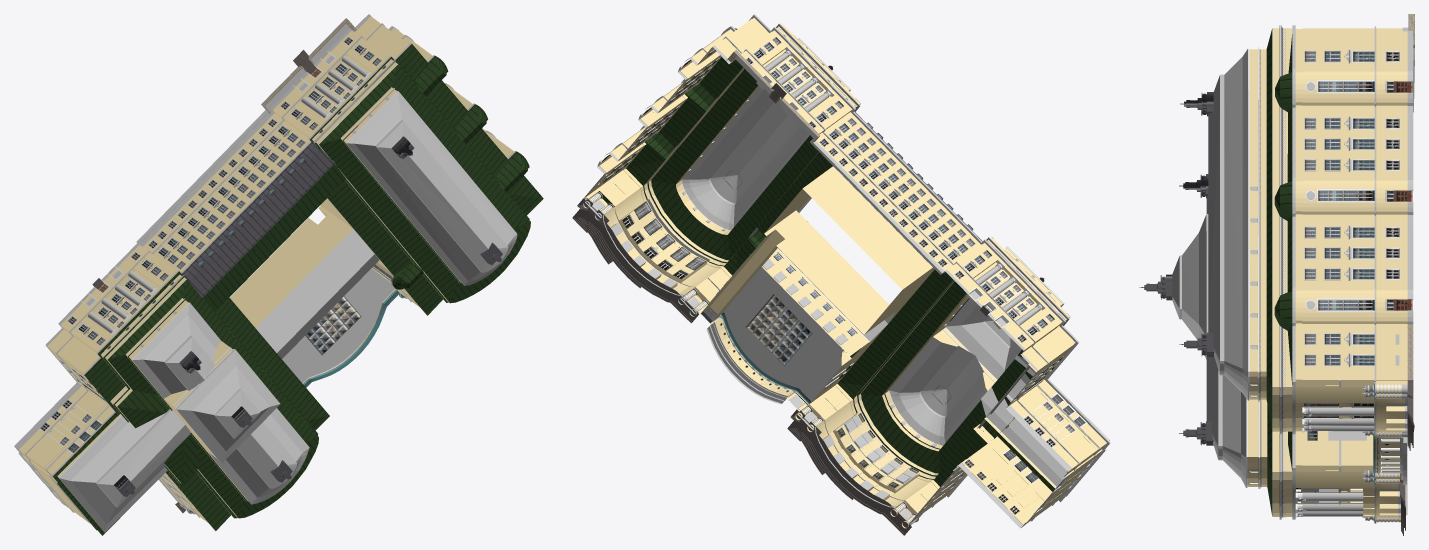
File: Estonia_pst-4.obj
The picture shows the model from 3 angles, left to right: view 1: azimuth 30°, elevation 25°; view 2: azimuth 150°, elevation 25°; view 3: azimuth 270°, elevation 25°; orthographic projection. The views are drawn at different scales.
Parts seen in each view (by area): view 1: Estonia_pst_4; view 2: Estonia_pst_4; view 3: Estonia_pst_4.
Part boxes in pixels (x1,y1,x2,y2): Estonia_pst_4: (14, 14, 543, 535); Estonia_pst_4: (572, 14, 1110, 535); Estonia_pst_4: (1139, 14, 1414, 535).
Bounding box in the file's own units: 120 × 104 × 40.86.
